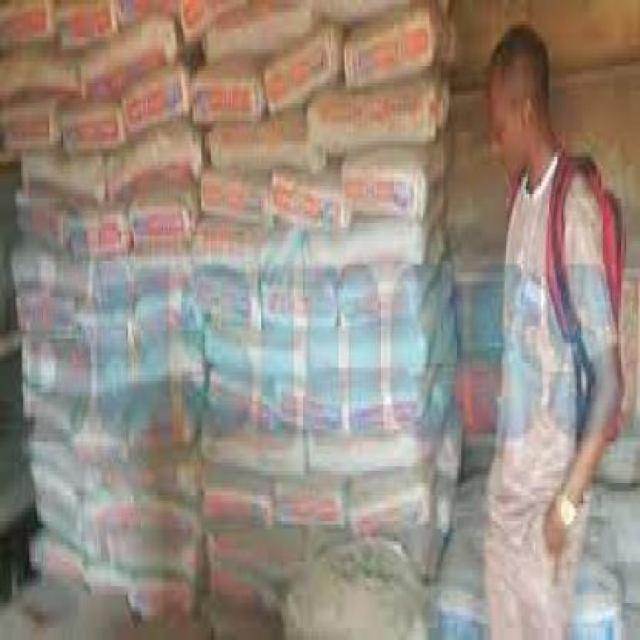gunny_bag: (313, 65, 435, 162), (80, 14, 173, 100), (204, 0, 315, 68), (108, 124, 197, 206), (94, 333, 203, 397), (205, 111, 313, 175), (308, 313, 423, 373), (340, 462, 431, 537), (308, 214, 419, 275), (204, 410, 304, 475), (264, 21, 336, 111), (345, 13, 433, 86), (98, 286, 189, 356), (192, 208, 286, 272), (207, 321, 308, 380), (187, 257, 261, 335), (310, 426, 421, 478), (342, 145, 421, 218), (97, 246, 188, 308), (336, 264, 417, 332), (125, 387, 201, 453), (21, 332, 95, 399), (258, 268, 339, 329), (18, 152, 111, 205), (120, 67, 192, 133), (271, 172, 342, 237), (207, 557, 279, 621), (14, 251, 94, 308), (204, 468, 272, 535), (200, 165, 270, 230), (129, 484, 204, 543), (1, 49, 80, 105), (345, 378, 423, 434), (109, 532, 198, 581), (18, 289, 95, 345), (119, 446, 199, 499), (206, 370, 275, 430), (206, 519, 274, 578), (273, 532, 344, 588), (276, 378, 346, 434), (30, 389, 82, 464), (191, 64, 258, 119), (56, 108, 128, 157), (36, 489, 84, 562), (128, 197, 192, 251), (176, 2, 245, 51), (15, 191, 67, 256), (73, 403, 128, 464), (34, 453, 105, 500), (276, 483, 345, 529), (130, 572, 197, 615), (67, 208, 127, 256), (3, 0, 55, 49), (314, 3, 428, 25), (2, 108, 64, 148), (32, 545, 83, 592), (58, 0, 114, 38), (80, 492, 129, 535), (84, 561, 130, 599)
